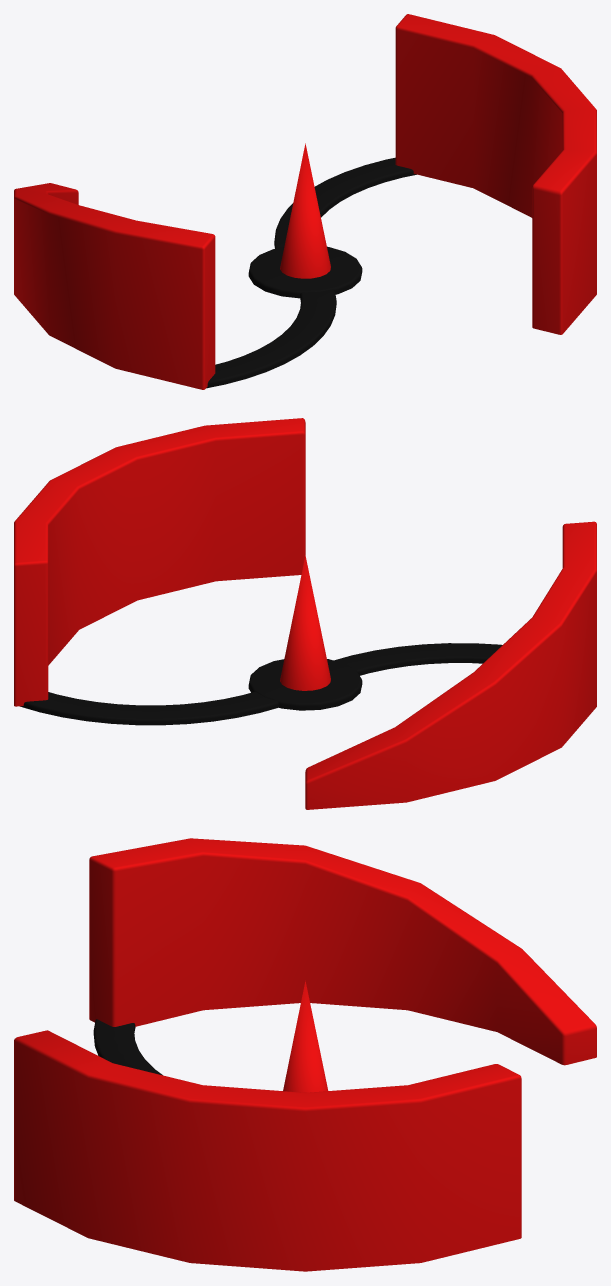
Rendered from CylRot_Axe02_.fbx.
The picture shows the model from 3 angles, top to bottom: view 1: azimuth 30°, elevation 25°; view 2: azimuth 150°, elevation 25°; view 3: azimuth 270°, elevation 25°; orthographic projection. The views are drawn at different scales.
Visible parts, largest first — view 1: CylRot_Axe02_Form2_, CylRot_Axe02_Form1_, CylRot_Axe02_fix1_, CylRot_Axe02_Pik_, CylRot_Axe02_, CylRot_Axe02_fix2_; view 2: CylRot_Axe02_Form2_, CylRot_Axe02_Form1_, CylRot_Axe02_fix2_, CylRot_Axe02_Pik_, CylRot_Axe02_, CylRot_Axe02_fix1_; view 3: CylRot_Axe02_Form2_, CylRot_Axe02_Form1_, CylRot_Axe02_Pik_, CylRot_Axe02_fix1_.
Boxes of the visible parts, x1,y1,x2,y2 form: CylRot_Axe02_Form2_: (395, 14, 596, 334); CylRot_Axe02_Form1_: (14, 183, 215, 389); CylRot_Axe02_fix1_: (206, 289, 336, 388); CylRot_Axe02_Pik_: (280, 143, 330, 278); CylRot_Axe02_: (248, 246, 362, 298); CylRot_Axe02_fix2_: (274, 157, 416, 248); CylRot_Axe02_Form2_: (14, 418, 305, 706); CylRot_Axe02_Form1_: (305, 521, 596, 809); CylRot_Axe02_fix2_: (20, 691, 278, 725); CylRot_Axe02_Pik_: (280, 555, 330, 690); CylRot_Axe02_: (248, 659, 362, 710); CylRot_Axe02_fix1_: (334, 643, 502, 675); CylRot_Axe02_Form2_: (14, 1030, 521, 1271); CylRot_Axe02_Form1_: (89, 838, 596, 1065); CylRot_Axe02_Pik_: (283, 980, 328, 1092); CylRot_Axe02_fix1_: (93, 1019, 162, 1075).
Size of the model in its own units: 19.12 by 16.49 by 5.16.
